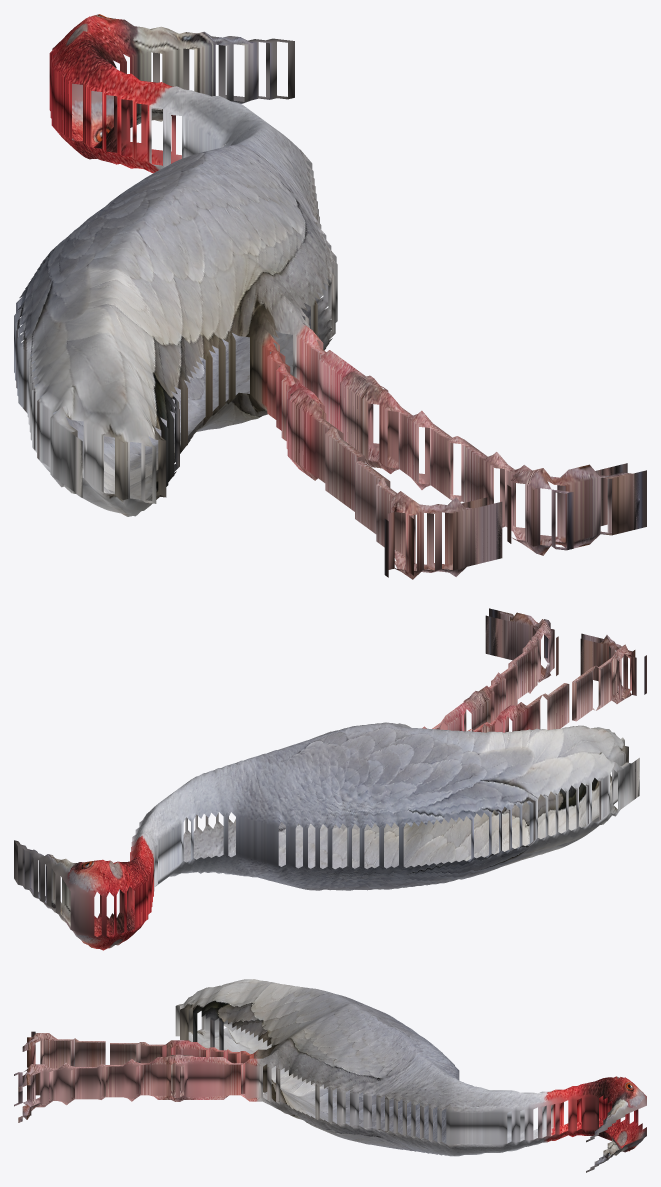
The model's file is crane.glb.
The picture shows the model from 3 angles, top to bottom: view 1: azimuth 30°, elevation 25°; view 2: azimuth 150°, elevation 25°; view 3: azimuth 270°, elevation 25°; orthographic projection. The views are drawn at different scales.
Visible parts, largest first — view 1: crane_obj; view 2: crane_obj; view 3: crane_obj.
Boxes of the visible parts, bbox=[...] form: crane_obj: bbox=[14, 14, 646, 579]; crane_obj: bbox=[14, 608, 646, 950]; crane_obj: bbox=[14, 979, 646, 1172].
Bounding box in the file's own units: 1.08 × 0.44 × 1.93.
Materials: 1 (1 with a texture image).
